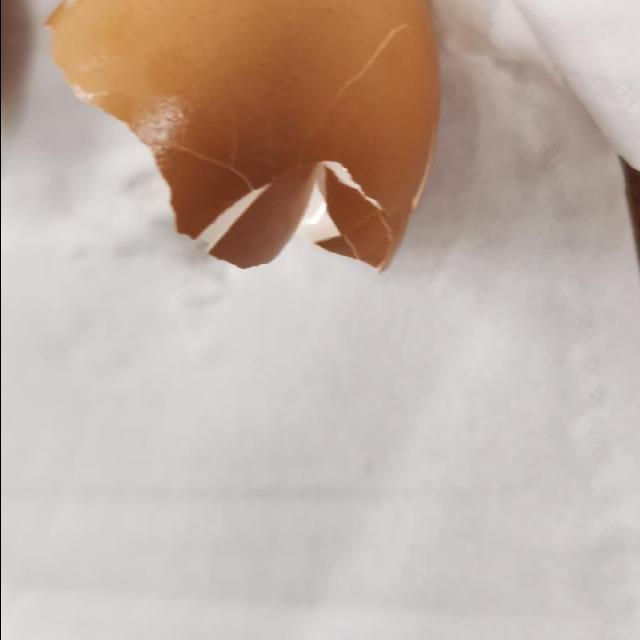egg shell: (41, 1, 441, 273)
